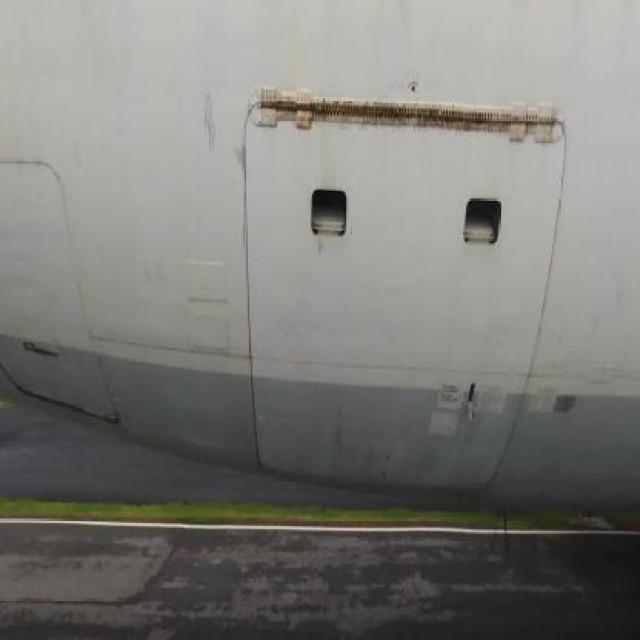Rust: (254, 89, 568, 151), (193, 80, 218, 154)
Scartch: (233, 131, 249, 227)
